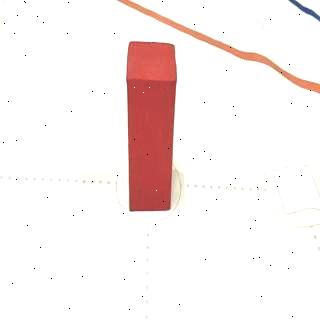redbox: (126, 42, 174, 213)
